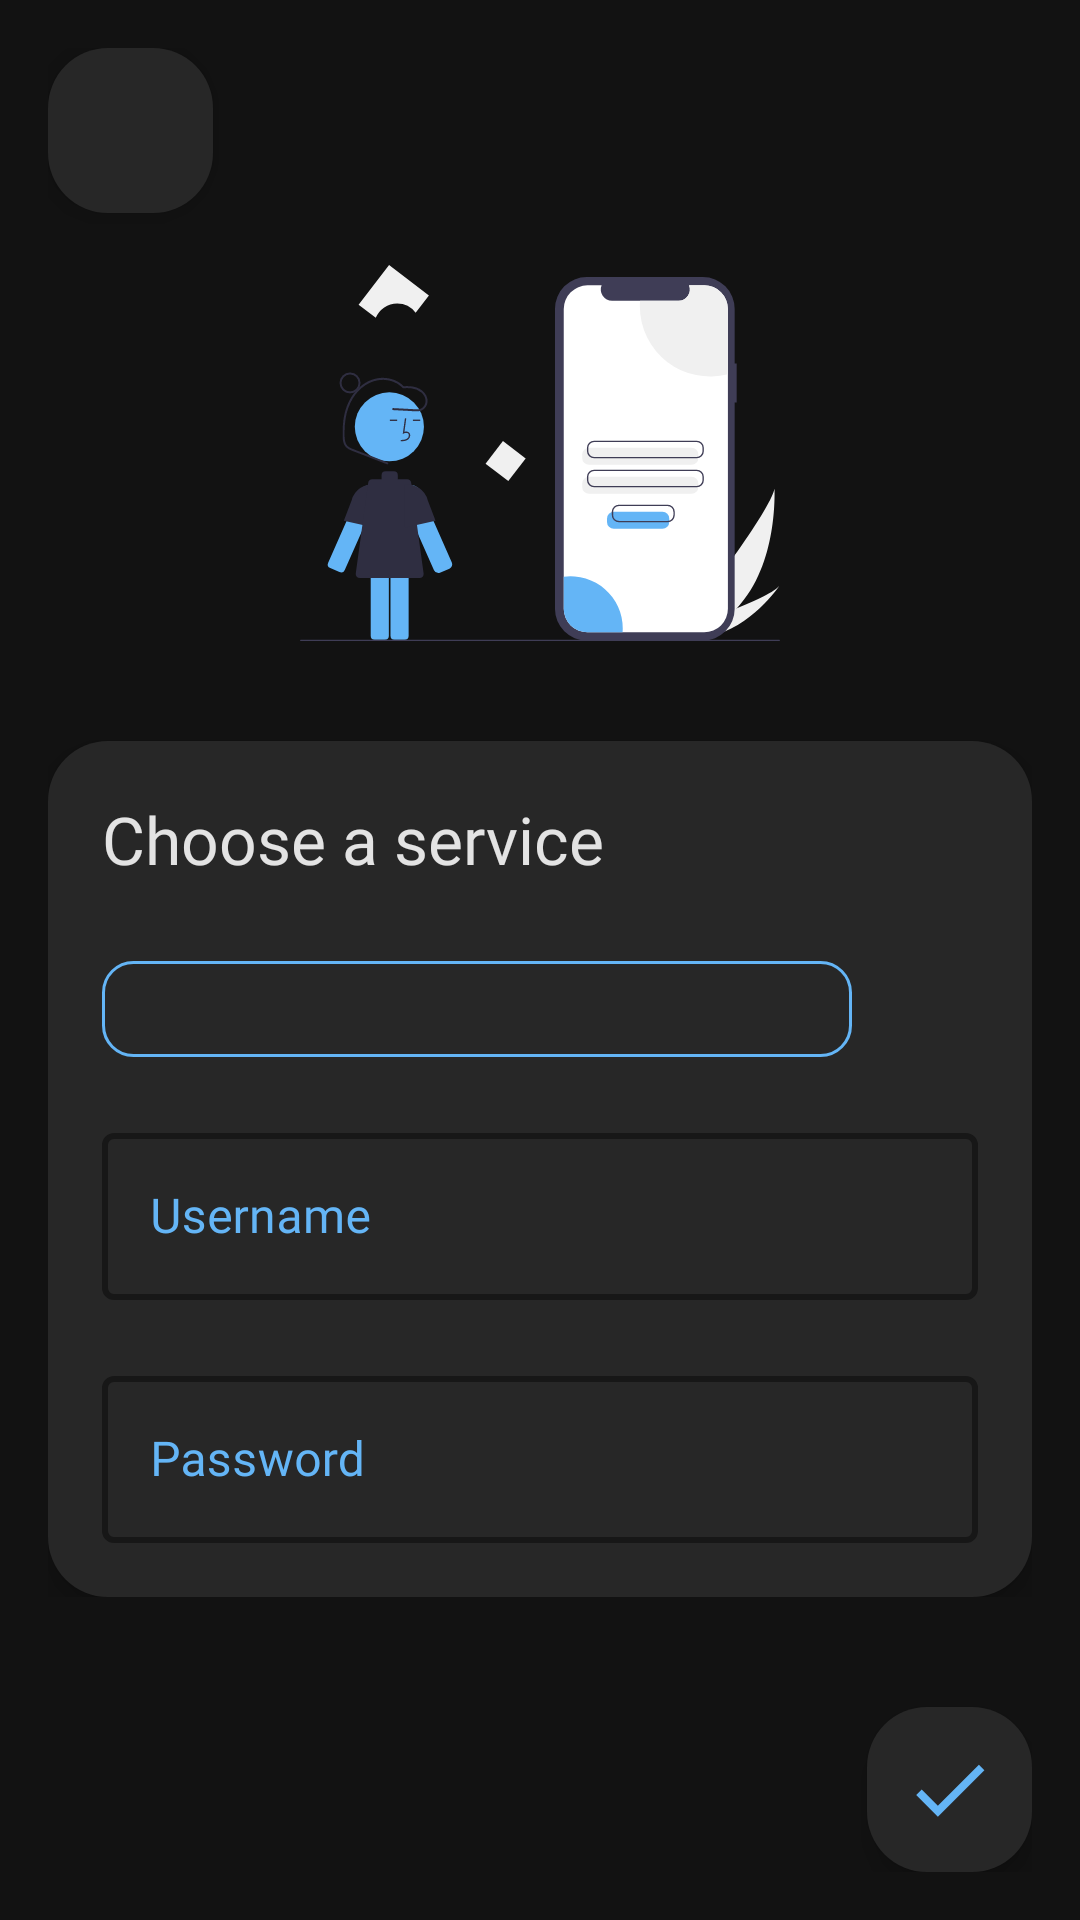

Screen size 1080px×1920px. Icon name, then its box in pixels as (x1, y1, x2, y2):
check: (867, 1707, 1032, 1872)
